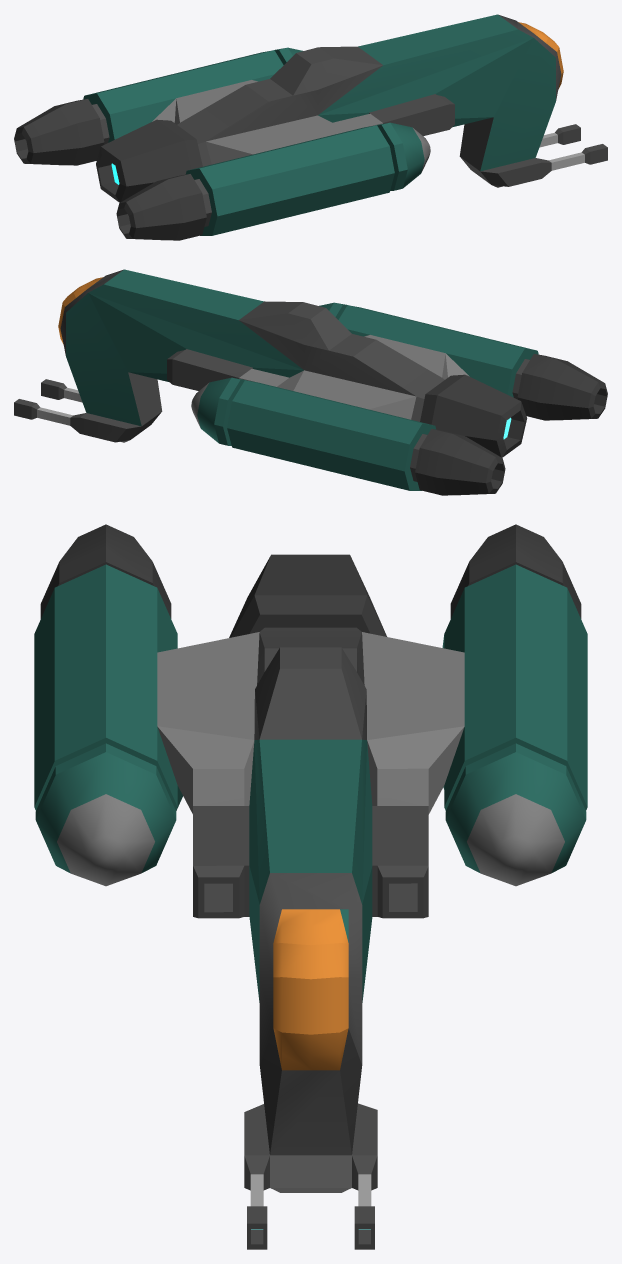
Rendered from Hauler-T-2-Ship-v01.glb.
3 renders of one model, top to bottom at view 1: azimuth 30°, elevation 25°; view 2: azimuth 150°, elevation 25°; view 3: azimuth 270°, elevation 25°, orthographic. The views are drawn at different scales.
Visible parts, largest first — view 1: Ship; view 2: Ship; view 3: Ship.
Boxes of the visible parts, x1=… form: Ship: x1=14, y1=14, x2=607, y2=240; Ship: x1=14, y1=269, x2=607, y2=495; Ship: x1=34, y1=524, x2=587, y2=1249.
Size of the model in its own units: 23.4 by 7.3 by 10.8.
